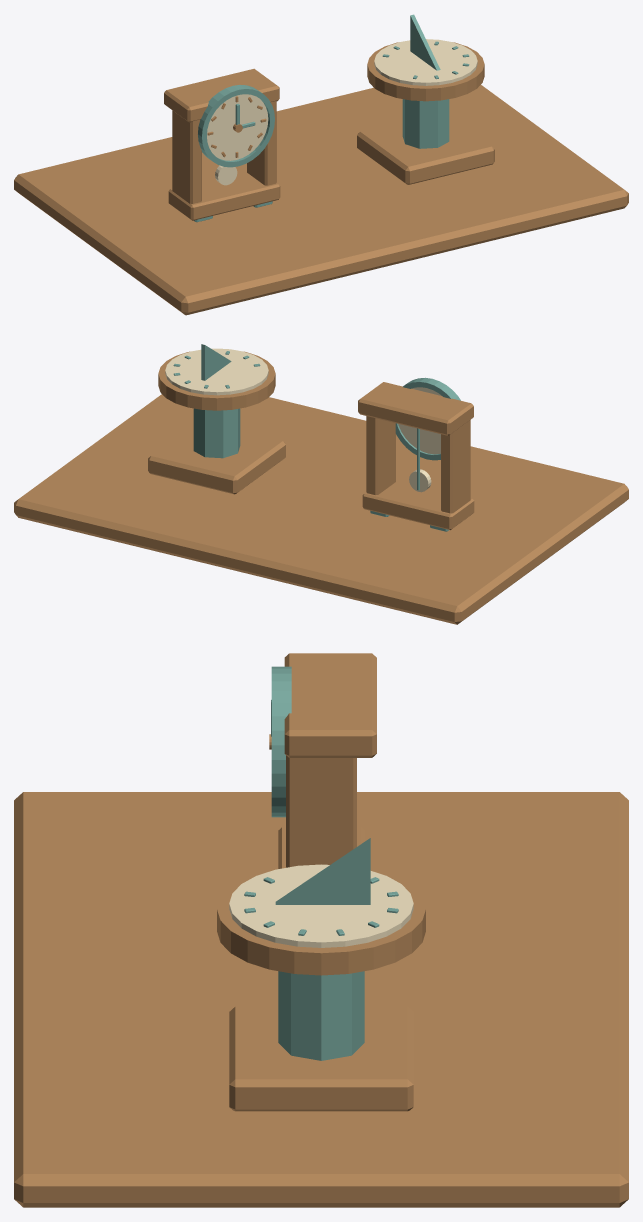
3 renders of one model, top to bottom at view 1: azimuth 30°, elevation 25°; view 2: azimuth 150°, elevation 25°; view 3: azimuth 270°, elevation 25°, orthographic. The views are drawn at different scales.
Visible parts, largest first — view 1: timekeeping-display-scene-01; view 2: timekeeping-display-scene-01; view 3: timekeeping-display-scene-01.
Boxes of the visible parts, bbox=[...] form: timekeeping-display-scene-01: bbox=[14, 14, 628, 315]; timekeeping-display-scene-01: bbox=[14, 344, 628, 624]; timekeeping-display-scene-01: bbox=[14, 653, 628, 1207].
Size of the model in its own units: 3 by 0.962 by 2.
